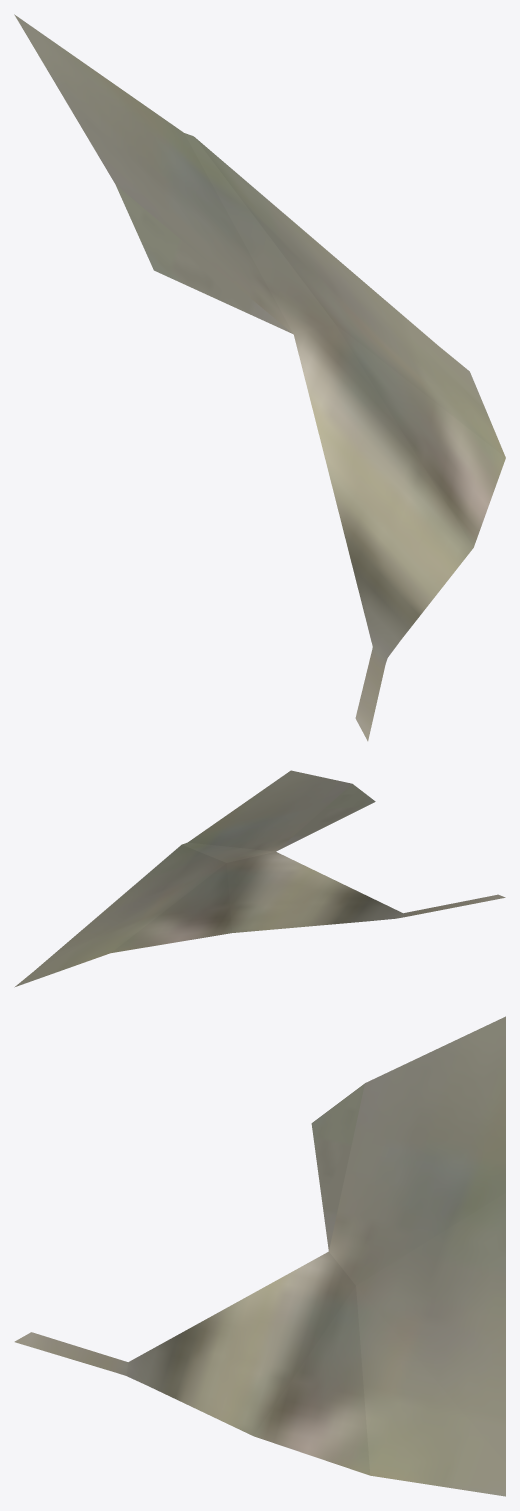
The model's file is Tile_+003_+004_L21_0000300.glb.
3 views of the same model, one above another, from view 1: azimuth 30°, elevation 25°; view 2: azimuth 150°, elevation 25°; view 3: azimuth 270°, elevation 25° (orthographic). The views are drawn at different scales.
Parts seen in each view (by area): view 1: rtc; view 2: rtc; view 3: rtc.
Part boxes in pixels (box(x1,y1,x2,y2)): rtc: box(14, 14, 505, 741); rtc: box(14, 770, 505, 987); rtc: box(14, 1016, 505, 1496).
Size of the model in its own units: 4.25 by 4.17 by 5.71.
Materials: 1 (1 with a texture image).
